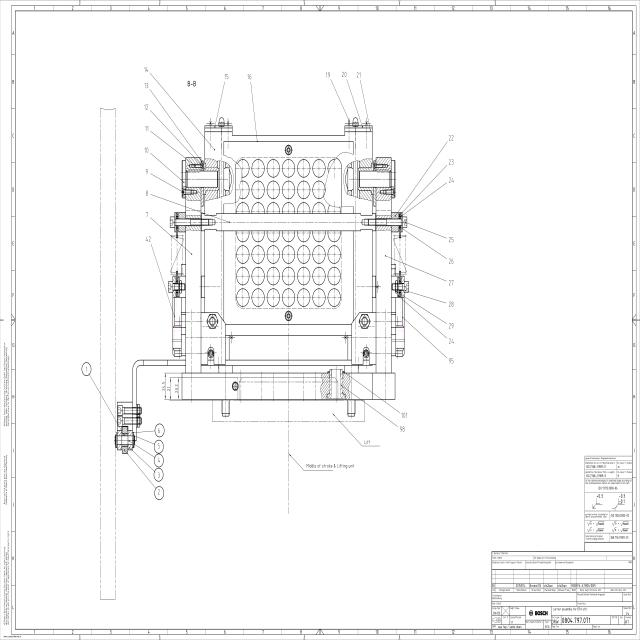dimension: (390, 244, 406, 286), (169, 236, 184, 276), (185, 74, 203, 92), (162, 372, 168, 401), (174, 377, 181, 401), (168, 377, 174, 401)
